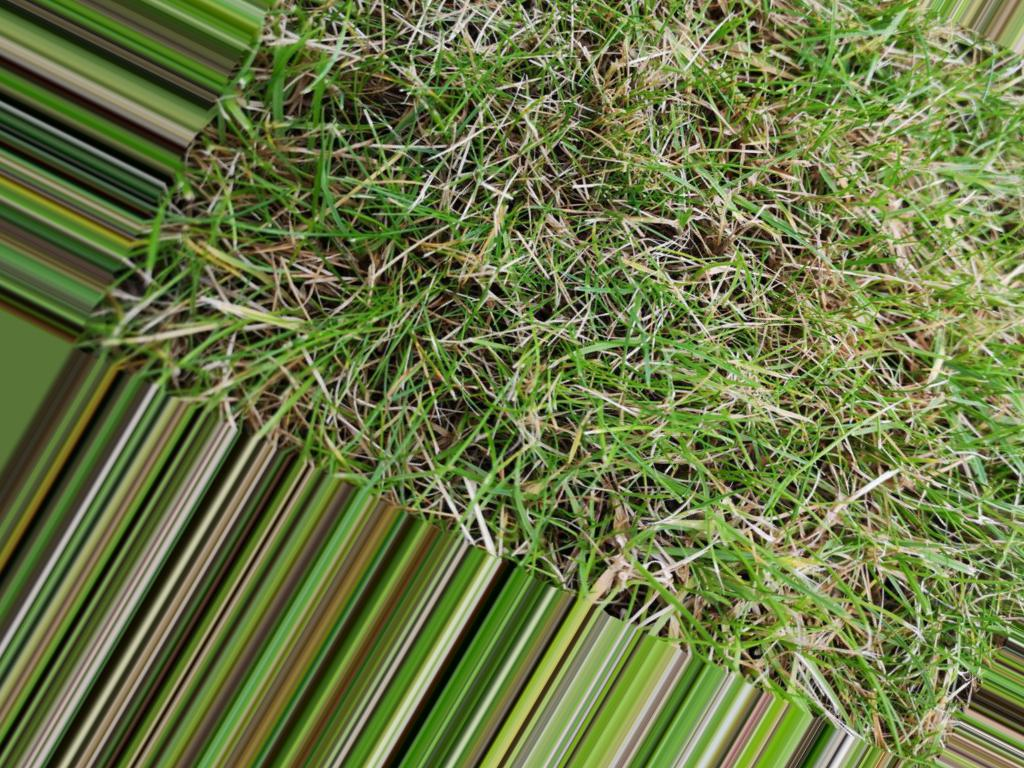patch: (665, 475, 920, 661), (778, 200, 948, 404), (211, 242, 482, 309)
